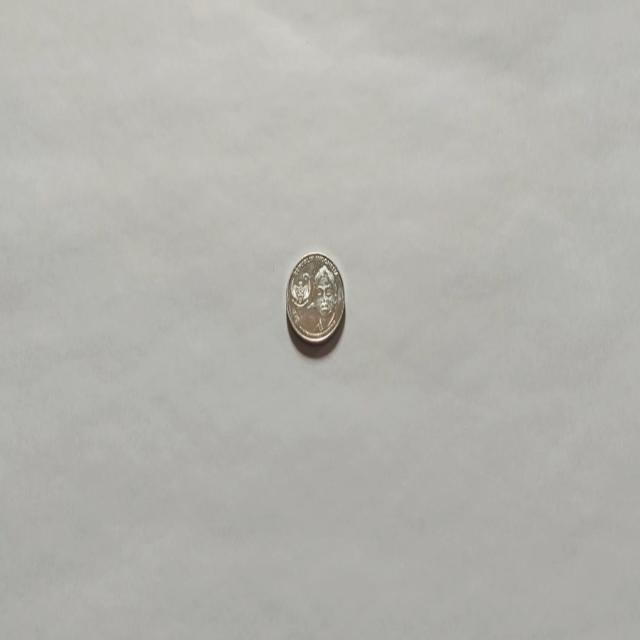dua ratus rupiah: (284, 250, 346, 346)
